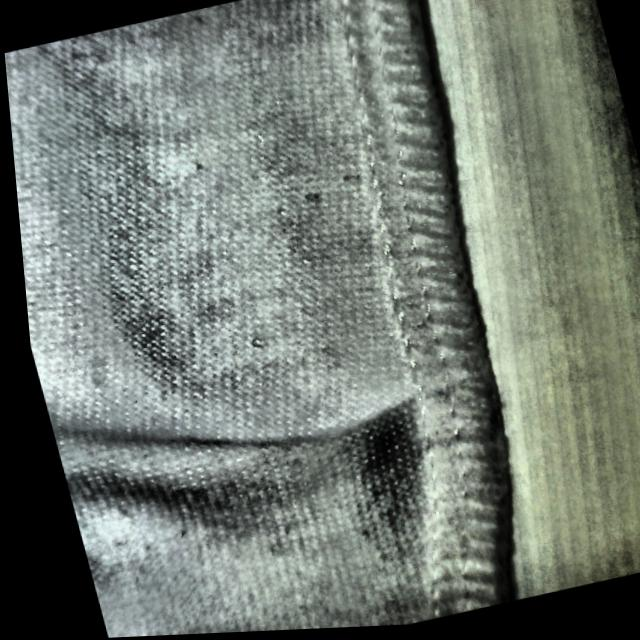seam: (183, 347, 509, 531)
